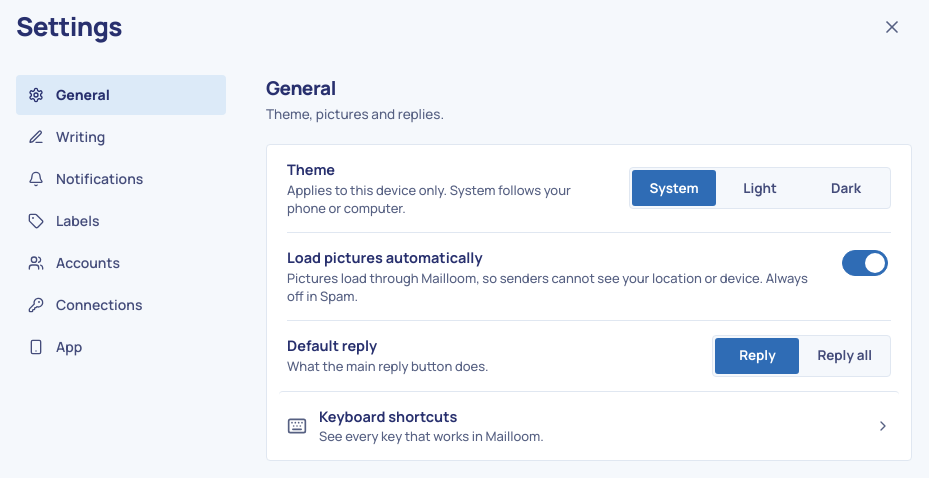
Scenario: Load pictures automatically › is a switch; turning it off sends PATCH loadPictures and message requests stop asking for pictures
Expected: the text "senders cannot see your location or device" is shown, [287,269,808,305]
Click the switch named "Load pictures automatically" at [865, 263], box [839,241,891,285]
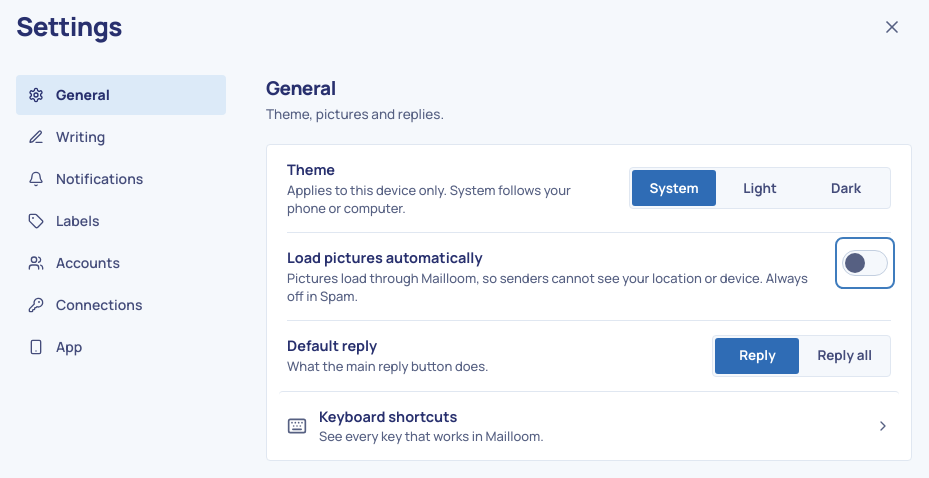
Now the switch named "Load pictures automatically" is not checked
Click the switch named "Load pictures automatically" at [865, 263], box [839,241,891,285]
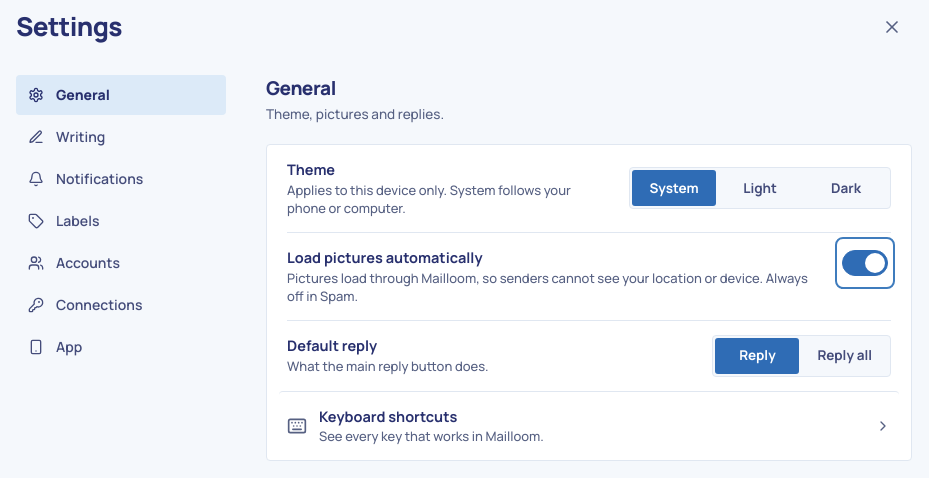
Now the switch named "Load pictures automatically" is checked, box [839,241,891,285]
